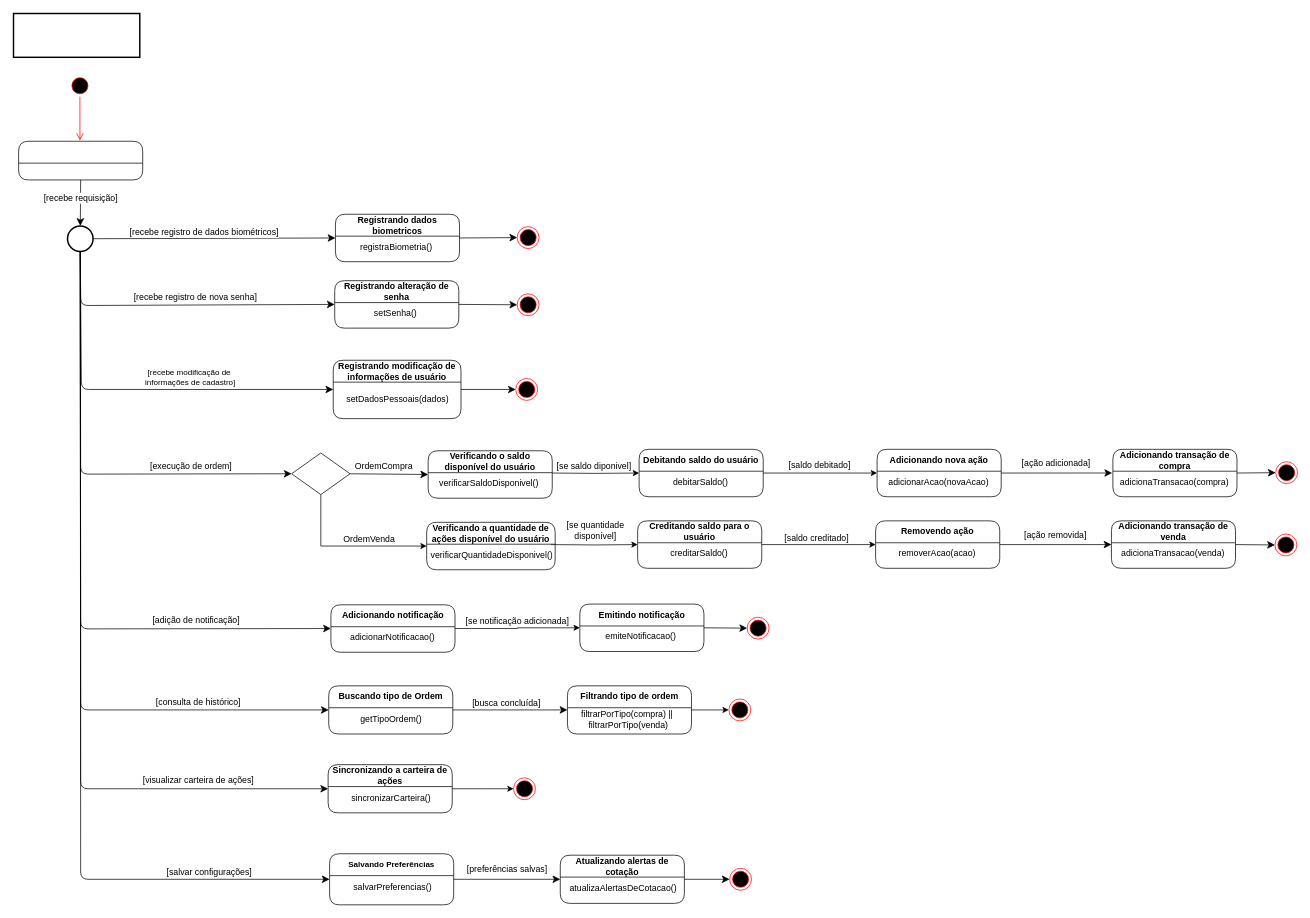
Image size: 1310x918. Some labels were removed from this diagram. Here are the shapes that lost their labels. From the top down, the centre of each, then its label:
At (x=76, y=35): "Classe Usuario".
At (x=80, y=160): "Usuario Criado".
At (x=320, y=473): "Tipo de Ordem".
